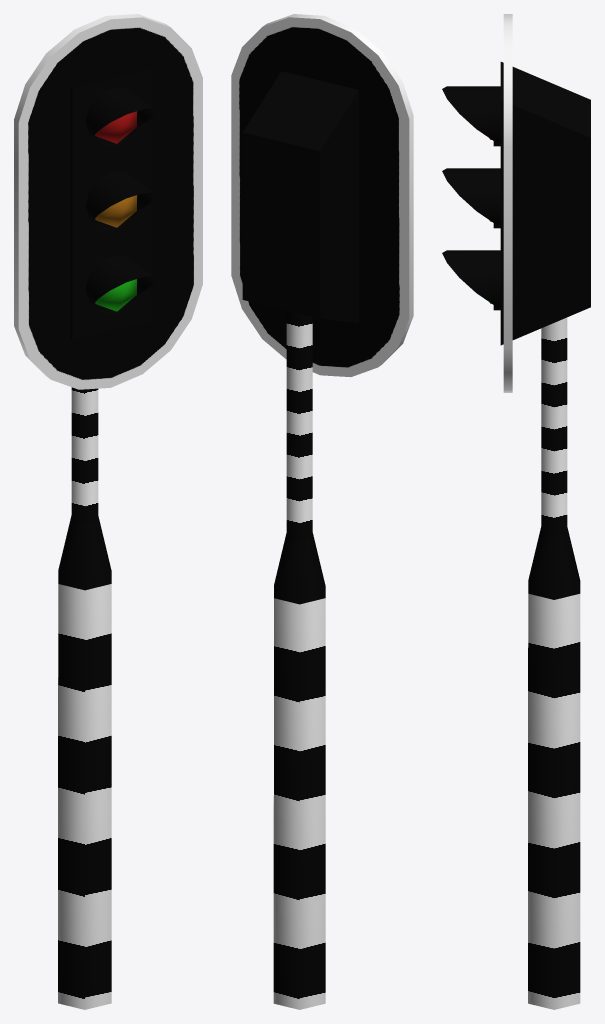
File: Verkeerslicht.FBX
3 views of the same model, side by side, from view 1: azimuth 30°, elevation 25°; view 2: azimuth 150°, elevation 25°; view 3: azimuth 270°, elevation 25° (orthographic). The views are drawn at different scales.
Parts seen in each view (by area): view 1: Beschermkap, Paal001, Behuizing, Zonnekap005, Zonnekap004, Zonnekap006, Licht001, Licht003, Licht002; view 2: Beschermkap, Paal001, Behuizing; view 3: Paal001, Behuizing, Beschermkap, Zonnekap005, Zonnekap006, Zonnekap004.
Boxes of the visible parts, left/top/right/bottom form: Beschermkap: left=14, top=14, right=202, bottom=389; Paal001: left=58, top=387, right=111, bottom=1009; Behuizing: left=70, top=69, right=152, bottom=340; Zonnekap005: left=85, top=171, right=152, bottom=226; Zonnekap004: left=85, top=255, right=152, bottom=311; Zonnekap006: left=85, top=87, right=152, bottom=143; Licht001: left=95, top=111, right=136, bottom=143; Licht003: left=95, top=279, right=136, bottom=311; Licht002: left=95, top=195, right=136, bottom=227; Beschermkap: left=231, top=14, right=413, bottom=376; Paal001: left=273, top=310, right=325, bottom=1009; Behuizing: left=242, top=71, right=358, bottom=323; Paal001: left=528, top=317, right=580, bottom=1009; Behuizing: left=500, top=62, right=590, bottom=345; Beschermkap: left=503, top=14, right=512, bottom=392; Zonnekap005: left=442, top=168, right=500, bottom=228; Zonnekap006: left=442, top=86, right=500, bottom=146; Zonnekap004: left=442, top=250, right=500, bottom=310.
Size of the model in its own units: 27.14 by 140 by 19.45.
5 materials, 1 textured.
